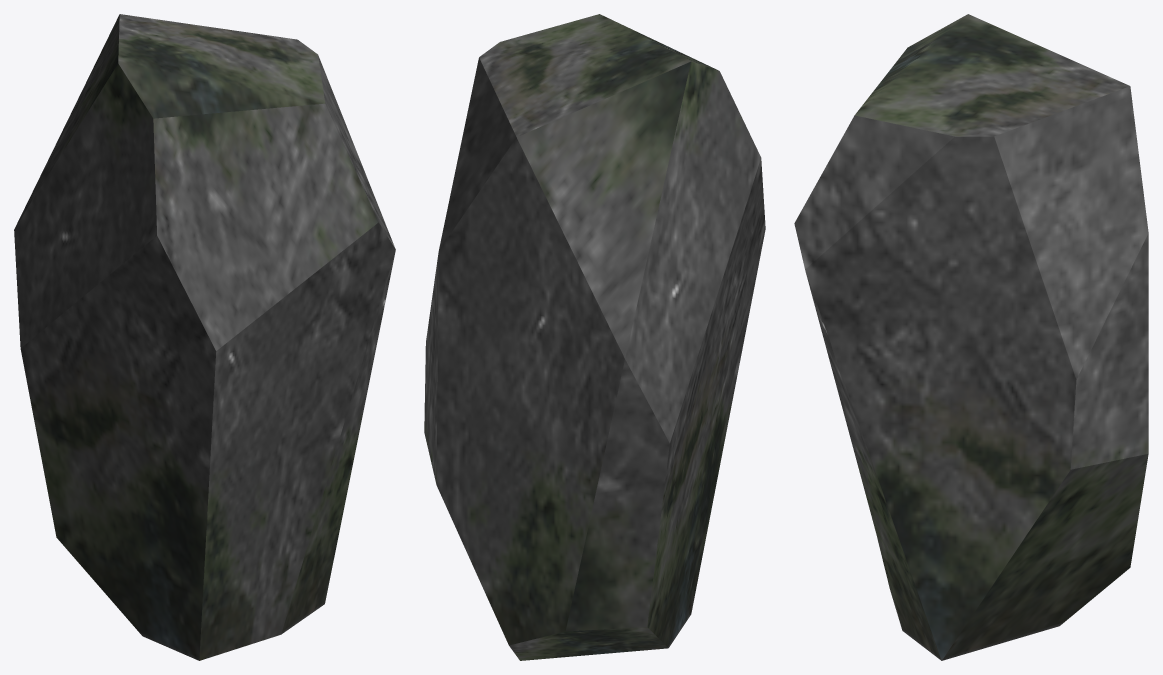
The model's file is rock_lrg_01.glb.
3 renders of one model, left to right at view 1: azimuth 30°, elevation 25°; view 2: azimuth 150°, elevation 25°; view 3: azimuth 270°, elevation 25°, orthographic. The views are drawn at different scales.
Parts seen in each view (by area): view 1: big rock; view 2: big rock; view 3: big rock.
Boxes of the visible parts, <box> form: big rock: <box>14,14,395,660</box>; big rock: <box>424,14,765,660</box>; big rock: <box>794,14,1148,660</box>.
Bounding box in the file's own units: 1.69 × 3.8 × 2.19.
1 material, 1 textured.
